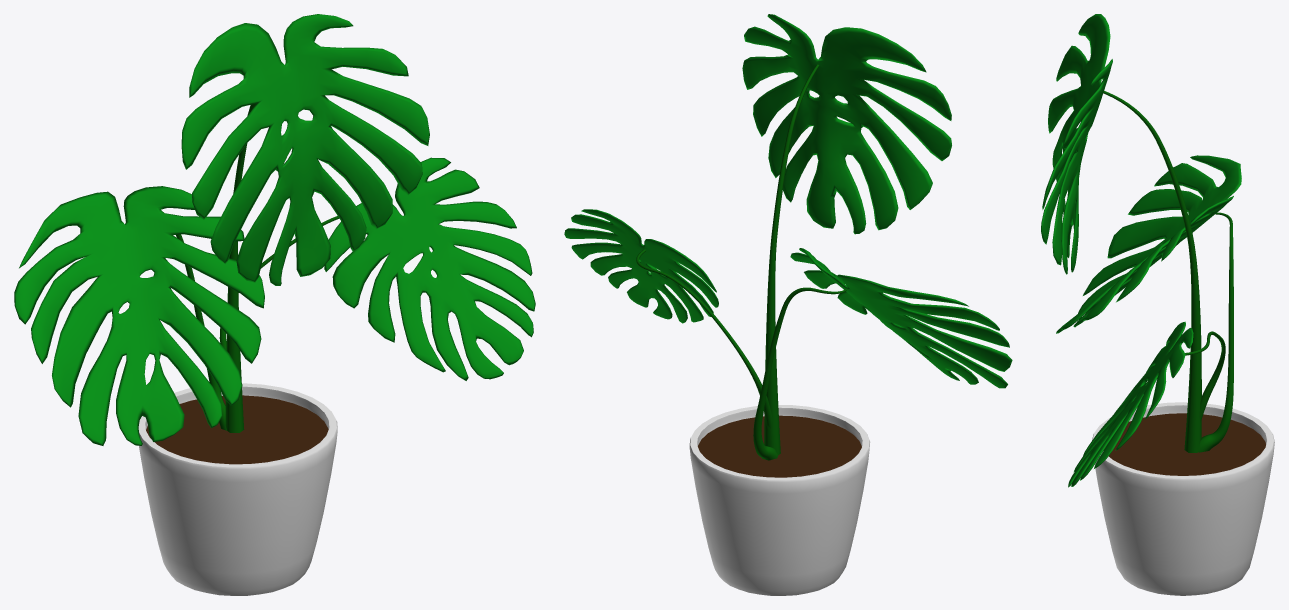
File: Monstera Deliciosa w_o texture.fbx
3 views of the same model, side by side, from view 1: azimuth 30°, elevation 25°; view 2: azimuth 150°, elevation 25°; view 3: azimuth 270°, elevation 25° (orthographic). The views are drawn at different scales.
Visible parts, largest first — view 1: Plane.002, Plane, Plane.001, Circle, Circle.001, NurbsPath.003; view 2: Plane, Circle, Plane.002, Plane.001, Circle.001, NurbsPath.003; view 3: Circle, Plane.002, Plane, Circle.001, NurbsPath.003, Plane.001.
Boxes of the visible parts, box(x1,y1,x2,y2) form: Plane.002: box(14, 186, 264, 445); Plane: box(181, 14, 429, 285); Plane.001: box(324, 157, 535, 380); Circle: box(138, 383, 337, 595); Circle.001: box(146, 395, 328, 464); NurbsPath.003: box(176, 103, 339, 432); Plane: box(742, 14, 951, 234); Circle: box(689, 405, 870, 595); Plane.002: box(790, 248, 1012, 388); Plane.001: box(564, 209, 718, 323); Circle.001: box(697, 415, 861, 477); NurbsPath.003: box(636, 64, 846, 460); Circle: box(1092, 402, 1274, 595); Plane.002: box(1056, 155, 1241, 333); Plane: box(1041, 14, 1112, 274); Circle.001: box(1105, 413, 1265, 475); NurbsPath.003: box(1103, 91, 1233, 452); Plane.001: box(1068, 321, 1193, 487).
Size of the model in its own units: 74.56 by 84.43 by 33.71.
